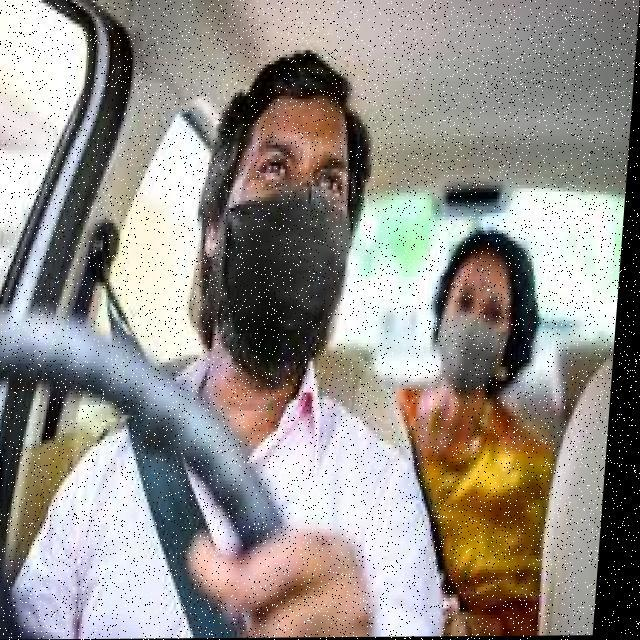seatbelt: (77, 396, 410, 640)
